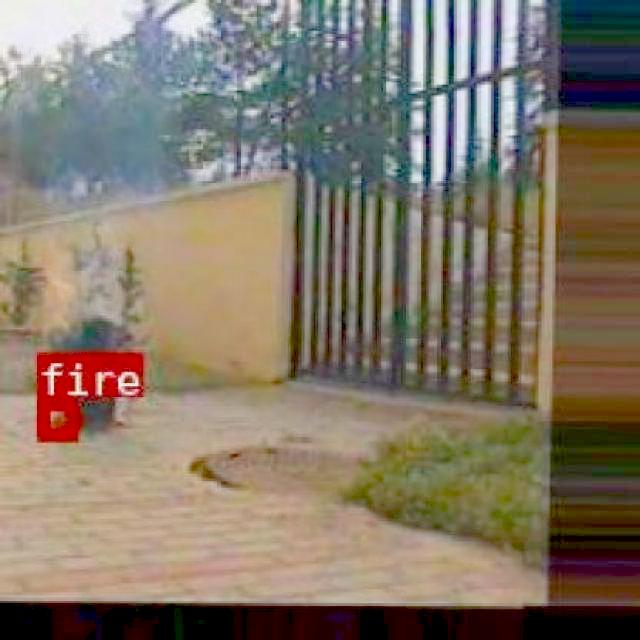fire: (34, 396, 74, 438)
